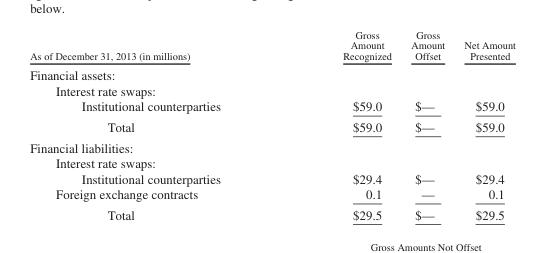table: (29, 28, 514, 221)
table column: (29, 28, 281, 221), (281, 28, 400, 221), (453, 28, 514, 221), (400, 28, 453, 221)
table column header: (29, 28, 514, 64)
table projected row header: (29, 64, 514, 82), (29, 136, 514, 154), (29, 82, 514, 98), (29, 154, 514, 170)
table row: (29, 28, 514, 64), (29, 116, 514, 136), (29, 185, 514, 204), (29, 64, 514, 82), (29, 98, 514, 116), (29, 136, 514, 154), (29, 204, 514, 221), (29, 82, 514, 98), (29, 154, 514, 170), (29, 170, 514, 185)
